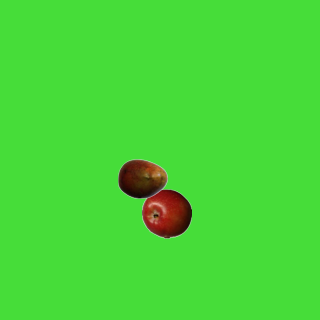Apple Braeburn: (141, 188, 191, 238)
Mango Red: (117, 153, 167, 203)
